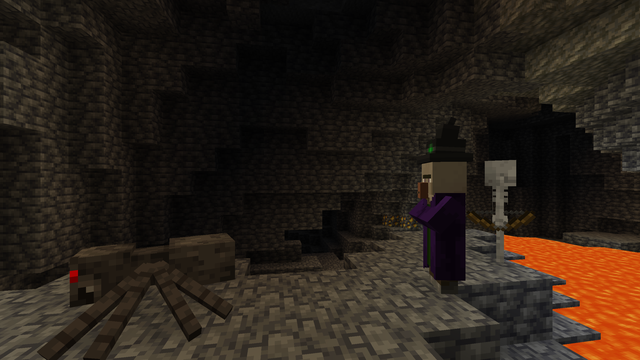araignees: (32, 226, 221, 355)
sorcieres: (413, 155, 474, 296)
squelettes: (481, 160, 526, 265)
